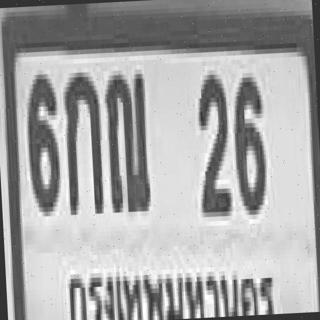A01: (62, 67, 106, 221)
A19: (104, 67, 152, 218)
N02: (195, 72, 232, 215)
N06: (23, 69, 62, 216), (230, 72, 267, 211)
